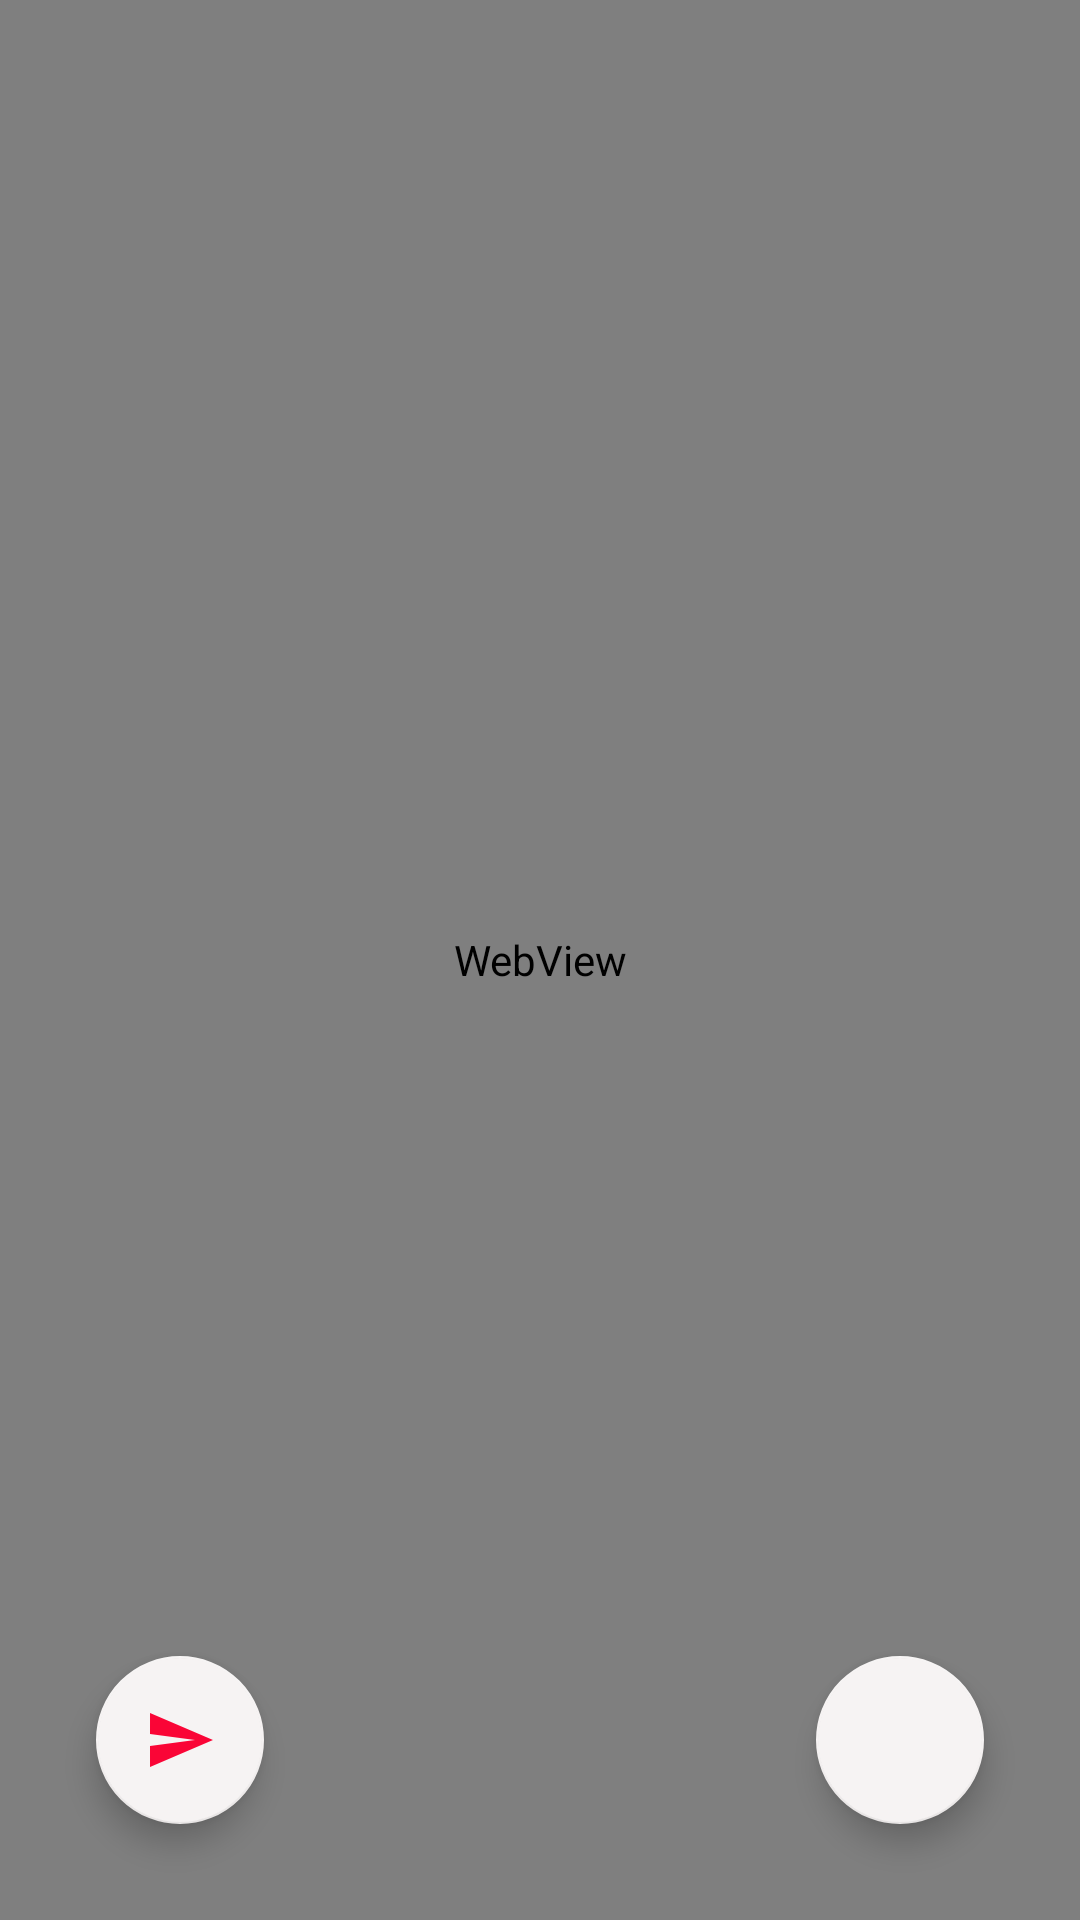

Icons on this 1080w x 1920h Android screen, each with its box as bbox(x1, y1, x2, y2):
share: bbox(96, 1656, 264, 1824)
